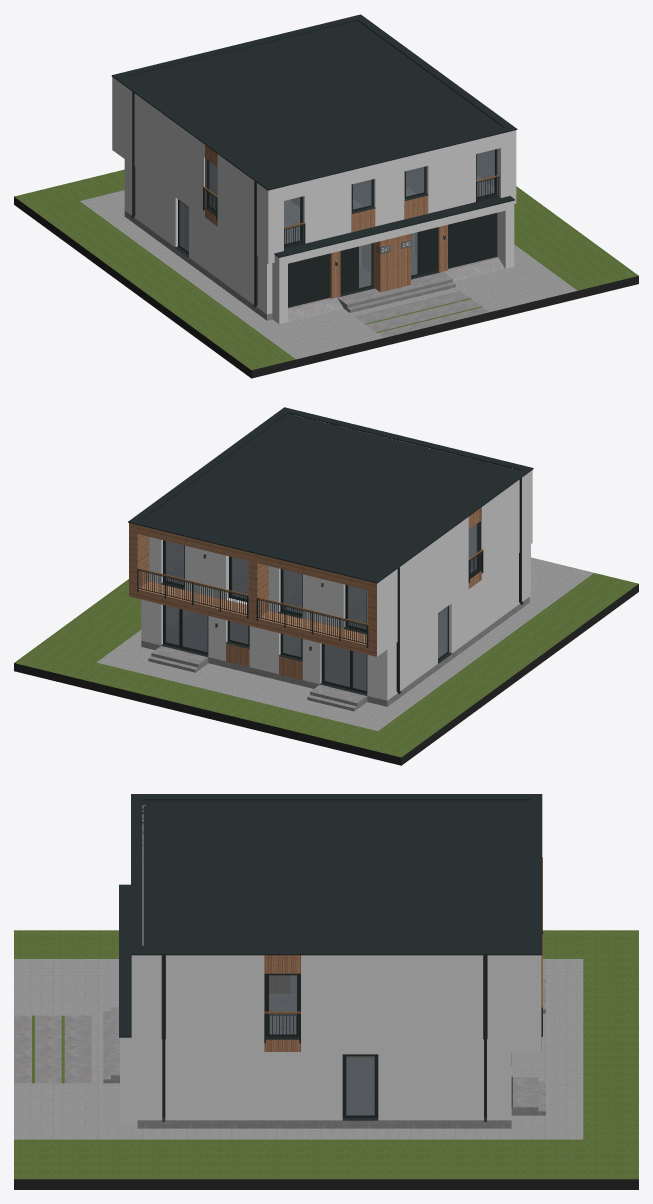
The model's file is Новое ограждение.fbx.
3 renders of one model, top to bottom at view 1: azimuth 30°, elevation 25°; view 2: azimuth 150°, elevation 25°; view 3: azimuth 270°, elevation 25°, orthographic. The views are drawn at different scales.
Visible parts, largest first — view 1: Velfac RAL 7016, Краска-01, Ландшафт-Трава зеленая, Камень-Коренная порода, Плитка коричневая 15x15, Краска-04, Стекло голубое, Дерево Обшивка темная 2, Поверх.-Бетон уложенный; view 2: Velfac RAL 7016, Краска-01, Ландшафт-Трава зеленая, Камень-Коренная порода, Дерево Обшивка темная, Стекло голубое, Плитка коричневая 15x15, Краска-04, Дерево Обшивка темная 2, Поверх.-Бетон уложенный, Дерево-Орех горизонтальный; view 3: Velfac RAL 7016, Краска-01, Ландшафт-Трава зеленая, Камень-Коренная порода, Плитка коричневая 15x15, Краска-04, Стекло голубое, Дерево Обшивка темная 2, Поверх.-Бетон уложенный.
Part boxes in pixels (x1=…): Velfac RAL 7016: x1=111, y1=14, x2=517, y2=307; Краска-01: x1=112, y1=77, x2=516, y2=324; Ландшафт-Трава зеленая: x1=14, y1=169, x2=638, y2=370; Камень-Коренная порода: x1=80, y1=190, x2=577, y2=359; Плитка коричневая 15x15: x1=124, y1=205, x2=505, y2=337; Краска-04: x1=14, y1=197, x2=638, y2=378; Стекло голубое: x1=179, y1=149, x2=494, y2=288; Дерево Обшивка темная 2: x1=204, y1=144, x2=447, y2=298; Поверх.-Бетон уложенный: x1=214, y1=176, x2=493, y2=242; Velfac RAL 7016: x1=128, y1=407, x2=533, y2=695; Краска-01: x1=141, y1=415, x2=532, y2=700; Ландшафт-Трава зеленая: x1=14, y1=573, x2=638, y2=757; Камень-Коренная порода: x1=96, y1=557, x2=593, y2=730; Дерево Обшивка темная: x1=129, y1=523, x2=376, y2=656; Стекло голубое: x1=165, y1=524, x2=477, y2=690; Плитка коричневая 15x15: x1=141, y1=597, x2=529, y2=711; Краска-04: x1=14, y1=584, x2=638, y2=765; Дерево Обшивка темная 2: x1=226, y1=507, x2=481, y2=679; Поверх.-Бетон уложенный: x1=167, y1=557, x2=365, y2=627; Дерево-Орех горизонтальный: x1=136, y1=549, x2=483, y2=625; Velfac RAL 7016: x1=119, y1=794, x2=542, y2=1121; Краска-01: x1=120, y1=805, x2=541, y2=1124; Ландшафт-Трава зеленая: x1=14, y1=930, x2=638, y2=1179; Камень-Коренная порода: x1=14, y1=959, x2=583, y2=1139; Плитка коричневая 15x15: x1=14, y1=979, x2=545, y2=1128; Краска-04: x1=14, y1=1179, x2=638, y2=1189; Стекло голубое: x1=269, y1=975, x2=374, y2=1115; Дерево Обшивка темная 2: x1=264, y1=955, x2=511, y2=1065; Поверх.-Бетон уложенный: x1=269, y1=994, x2=296, y2=1033.
Size of the model in its own units: 1977 by 2099 by 690.
Materials: 19 (8 with a texture image).
